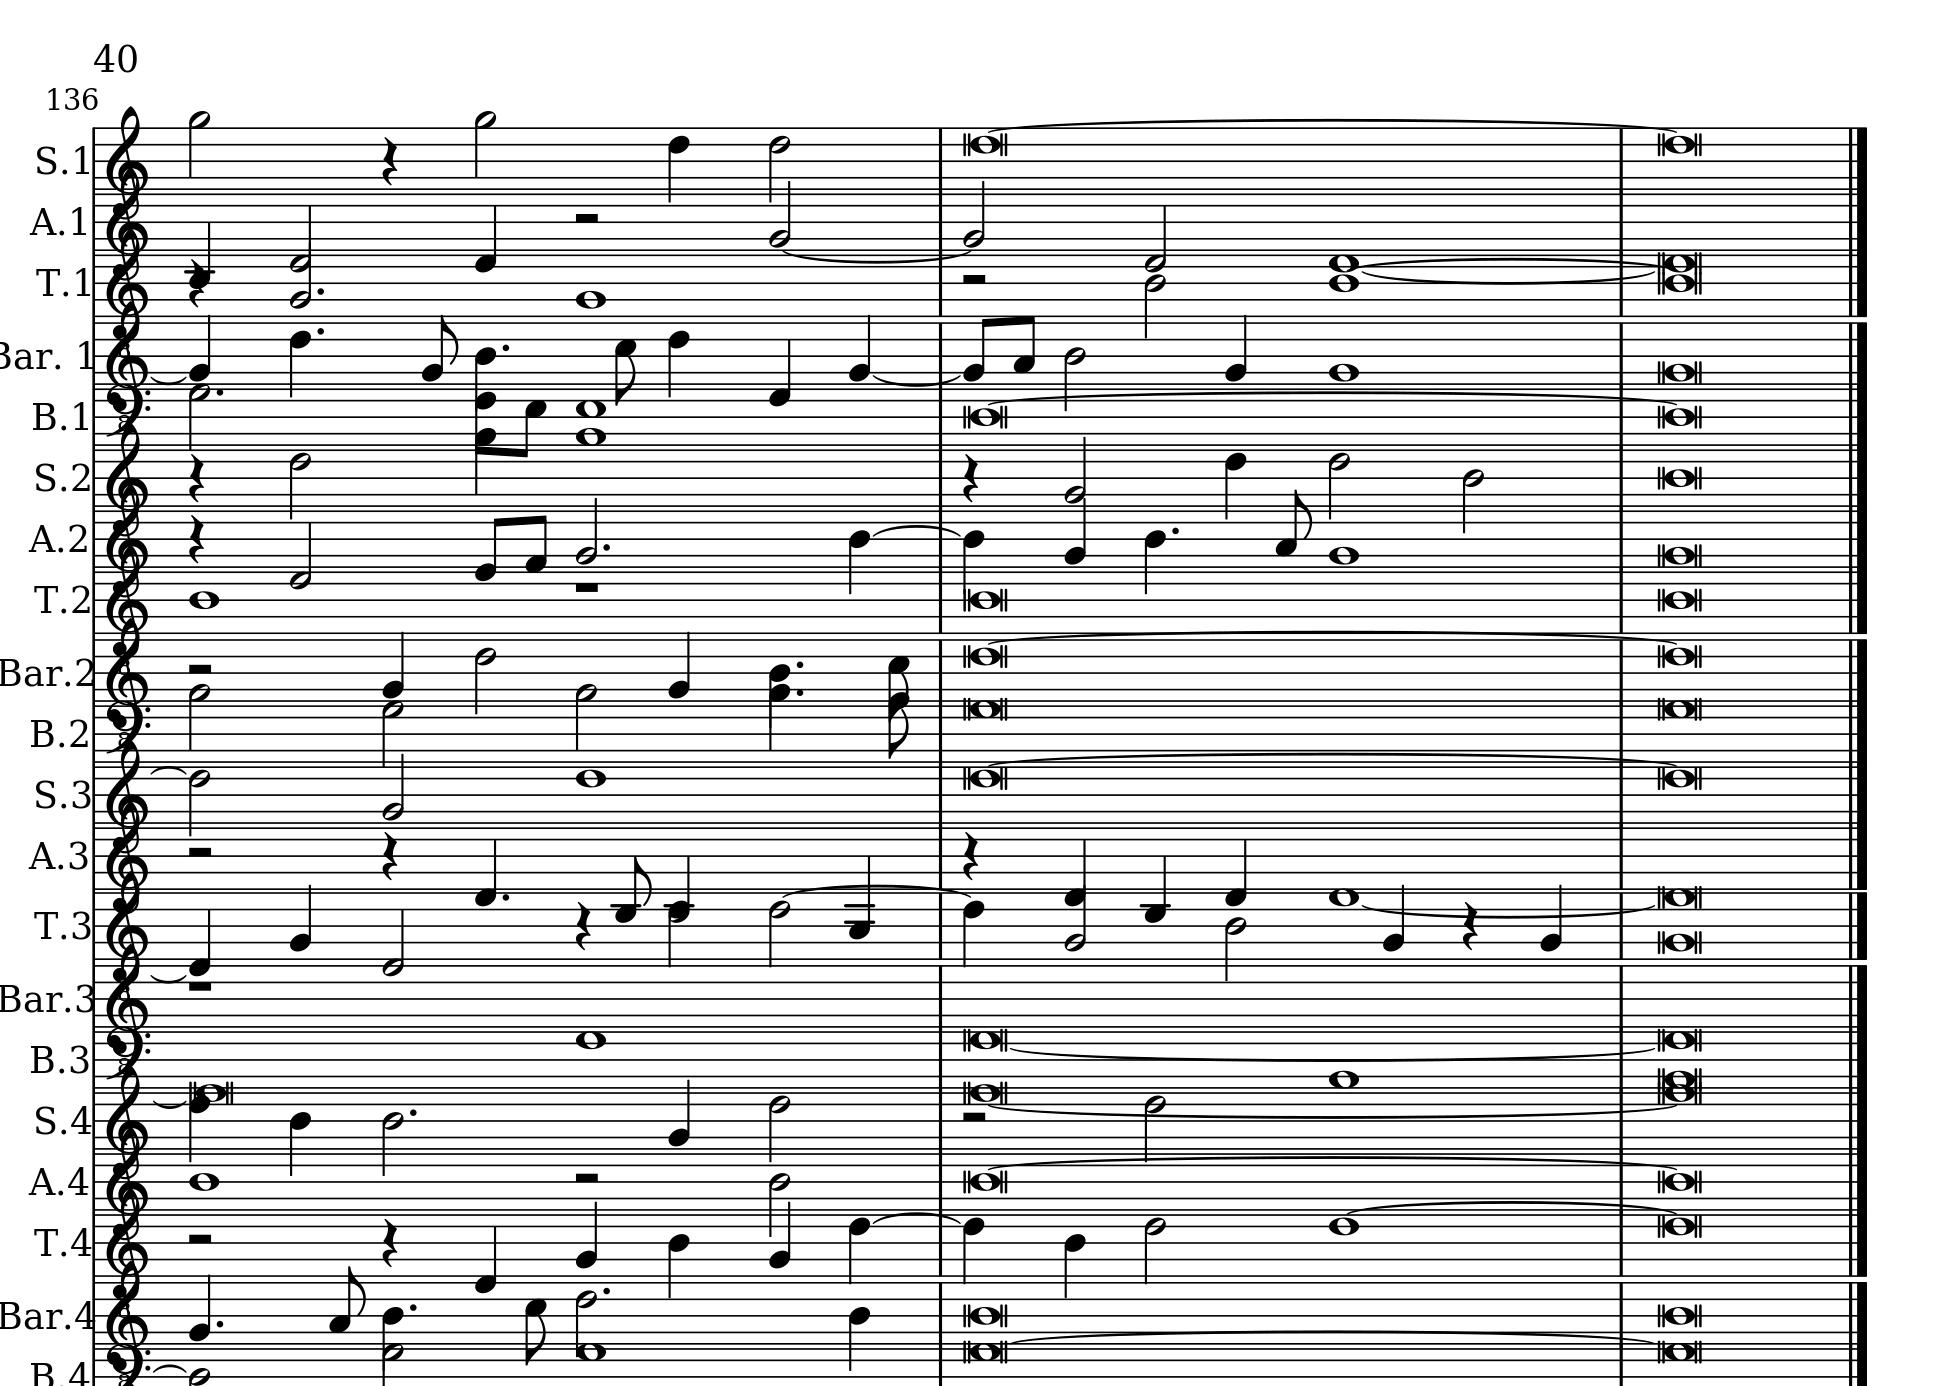0: (117, 40, 136, 73)
1: (46, 85, 60, 112)
2_6: (766, 126, 790, 193)
2_9: (472, 108, 498, 187), (186, 109, 211, 187)
3: (63, 84, 79, 112)
4: (93, 40, 115, 73)
4_6: (666, 124, 690, 202)
6: (79, 85, 99, 112)
Rests1: (571, 579, 601, 595), (184, 979, 217, 993)
Rests2: (183, 1230, 217, 1246), (958, 270, 990, 288), (183, 844, 216, 859), (571, 210, 603, 225), (958, 1108, 990, 1123)
Rests4: (1459, 898, 1482, 952), (571, 900, 594, 952), (379, 133, 400, 186), (379, 1216, 400, 1269), (186, 514, 207, 565), (379, 831, 400, 882), (961, 829, 982, 880), (961, 451, 981, 504), (186, 451, 205, 502)
Single_barline: (88, 127, 102, 193)
Slur: (873, 373, 964, 385), (871, 523, 963, 535), (871, 1212, 966, 1222), (150, 763, 187, 775), (148, 972, 187, 982), (151, 1098, 187, 1108), (151, 1363, 187, 1372)
dot: (498, 340, 511, 354), (313, 325, 327, 337), (600, 540, 612, 553), (793, 657, 805, 670), (313, 285, 325, 297), (1168, 523, 1180, 535), (499, 889, 511, 901), (406, 1105, 418, 1117), (600, 1284, 612, 1296), (406, 1300, 418, 1312), (214, 1317, 225, 1330), (793, 687, 805, 697), (214, 385, 223, 397)
